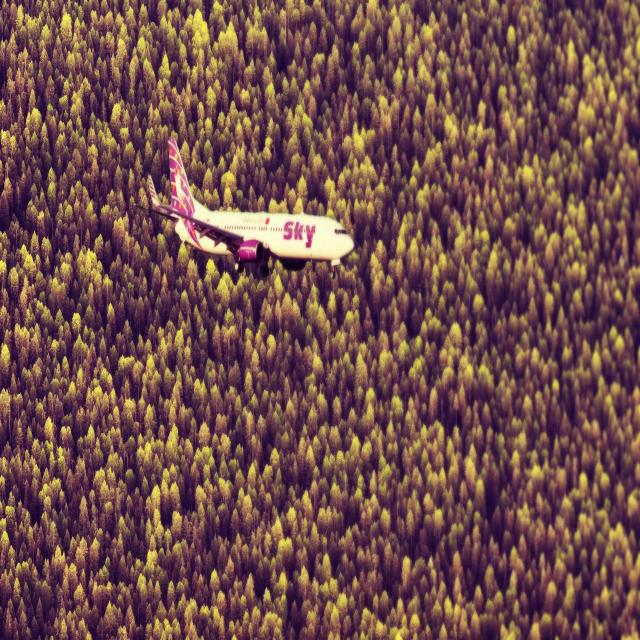airplane: (134, 136, 354, 278)
